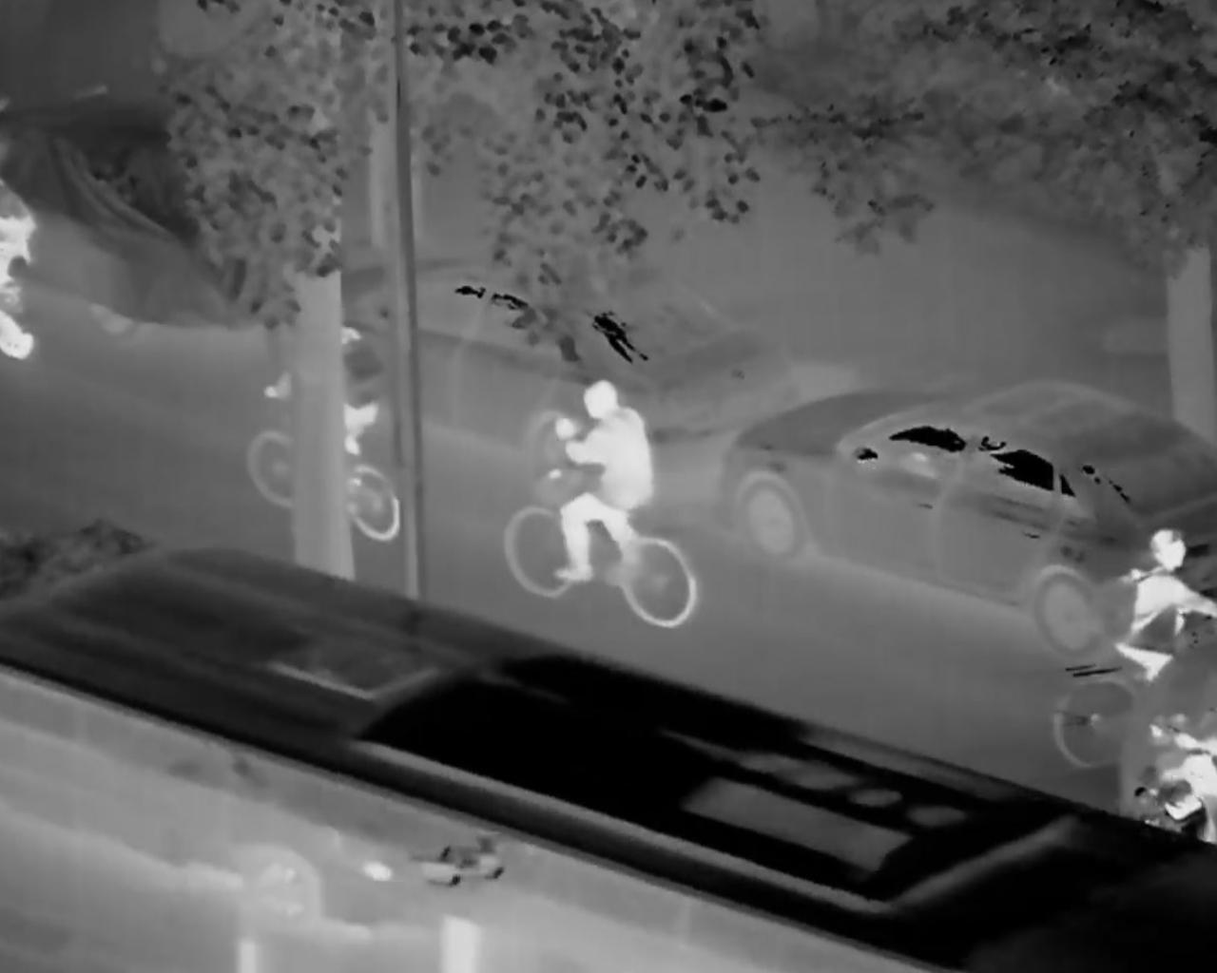person: (545, 378, 661, 599), (1105, 529, 1217, 703)
